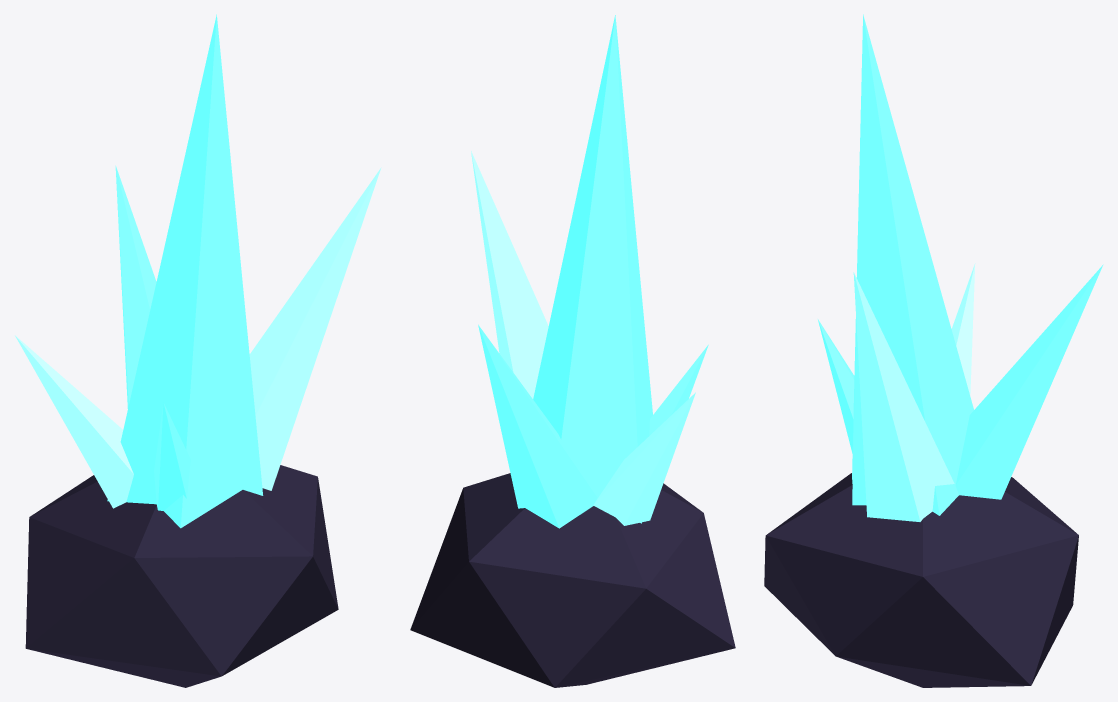
Rendered from crystal_cluster.glb.
3 views of the same model, side by side, from view 1: azimuth 30°, elevation 25°; view 2: azimuth 150°, elevation 25°; view 3: azimuth 270°, elevation 25° (orthographic). The views are drawn at different scales.
Parts seen in each view (by area): view 1: crystal_cluster; view 2: crystal_cluster; view 3: crystal_cluster.
Boxes of the visible parts, bbox=[...] form: crystal_cluster: bbox=[15, 14, 381, 687]; crystal_cluster: bbox=[410, 15, 735, 687]; crystal_cluster: bbox=[764, 14, 1103, 687].
Bounding box in the file's own units: 1.78 × 3.71 × 1.69.
